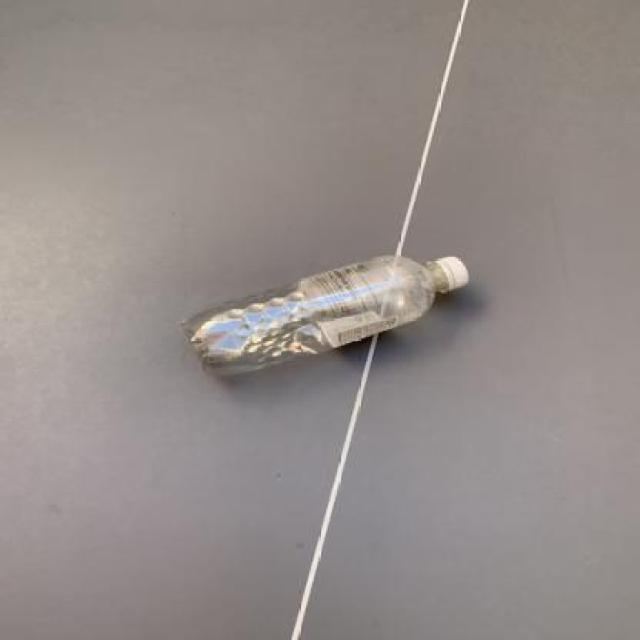trash: (178, 253, 472, 382)
